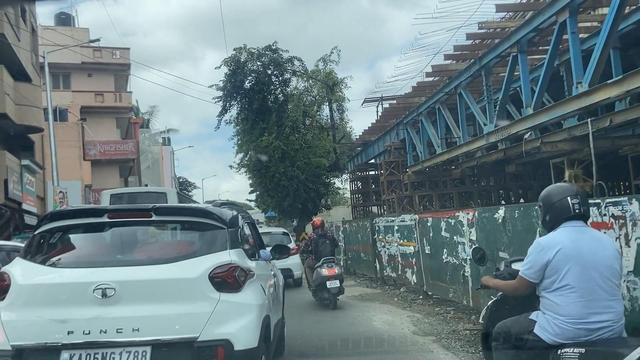LMV: (1, 215, 249, 360), (303, 219, 345, 303)
